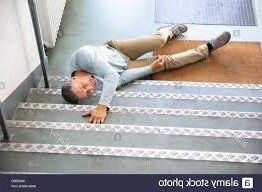fall: (60, 16, 234, 123)
